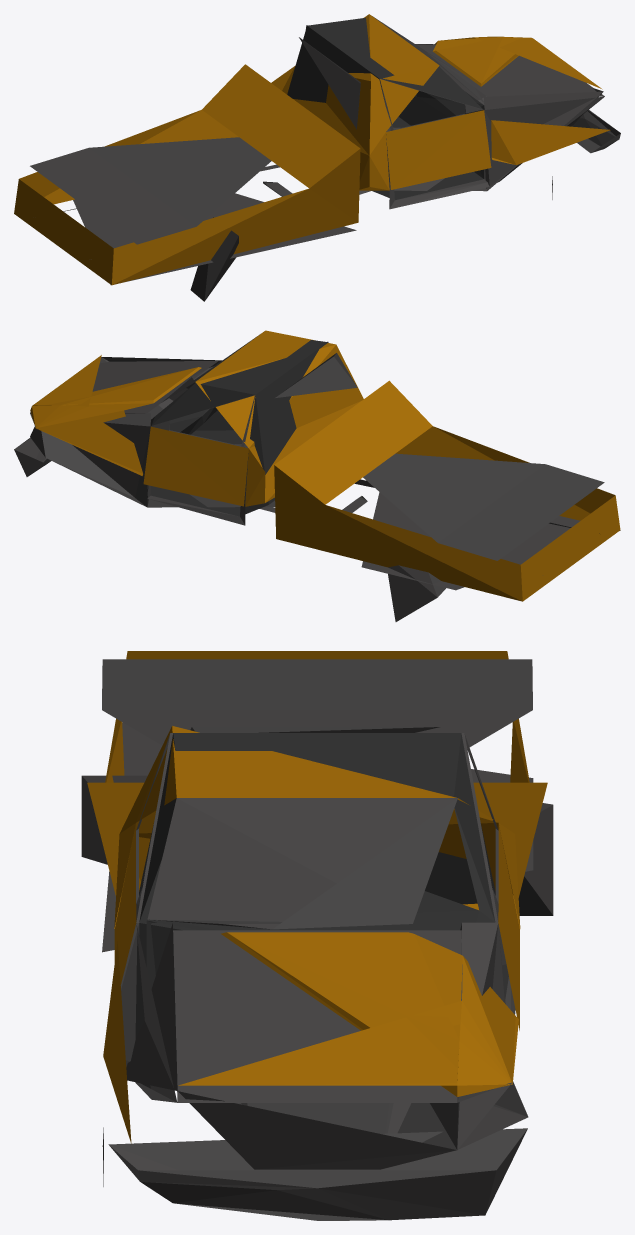
File: tow-truck.lod2.glb
The picture shows the model from 3 angles, top to bottom: view 1: azimuth 30°, elevation 25°; view 2: azimuth 150°, elevation 25°; view 3: azimuth 270°, elevation 25°; orthographic projection. The views are drawn at different scales.
Parts seen in each view (by area): view 1: UTLTRUCK90_Bumper_Front_UTLTRUCK90_Bodymat_0; view 2: UTLTRUCK90_Bumper_Front_UTLTRUCK90_Bodymat_0; view 3: UTLTRUCK90_Bumper_Front_UTLTRUCK90_Bodymat_0.
Boxes of the visible parts, x1,y1,x2,y2 form: UTLTRUCK90_Bumper_Front_UTLTRUCK90_Bodymat_0: [14, 14, 620, 301]; UTLTRUCK90_Bumper_Front_UTLTRUCK90_Bodymat_0: [14, 330, 620, 621]; UTLTRUCK90_Bumper_Front_UTLTRUCK90_Bodymat_0: [81, 651, 553, 1220].
Size of the model in its own units: 5.04 by 1.58 by 1.98.
